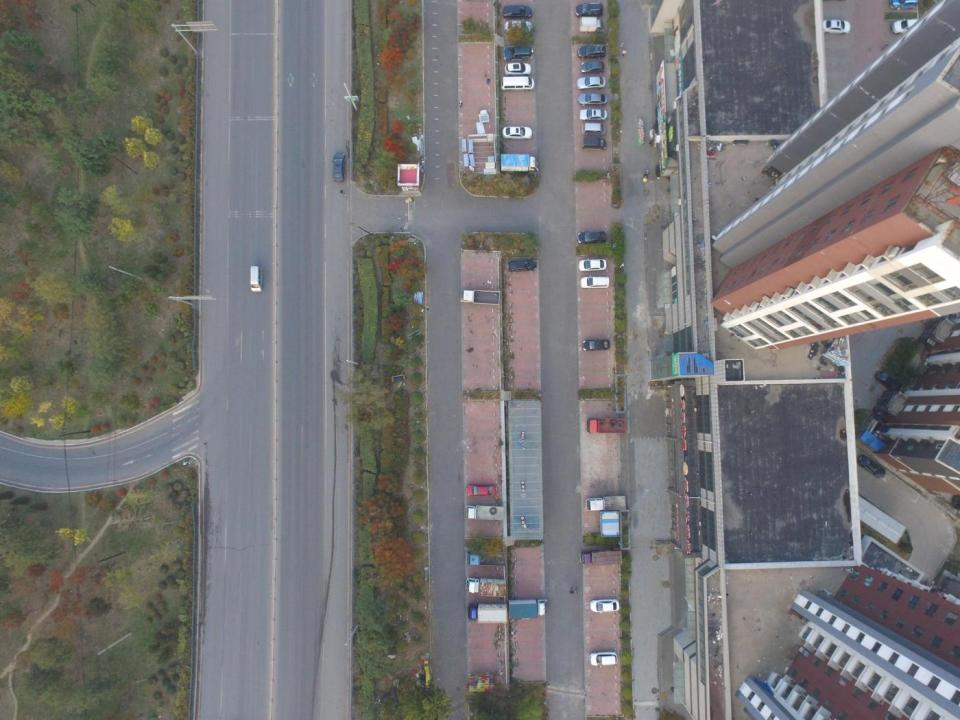car: (858, 454, 885, 479), (876, 370, 900, 391), (590, 598, 619, 614), (590, 650, 617, 667), (502, 4, 532, 19), (892, 18, 920, 34), (578, 92, 608, 106), (507, 258, 537, 272), (577, 76, 606, 90), (822, 20, 850, 34), (502, 126, 532, 139), (332, 153, 345, 182), (579, 108, 607, 121), (578, 231, 606, 244), (579, 258, 607, 271), (466, 484, 496, 496), (505, 20, 532, 33), (504, 63, 530, 76), (580, 61, 604, 75), (582, 340, 610, 351)
truck: (508, 599, 547, 620), (468, 604, 508, 624), (466, 577, 506, 597), (579, 549, 622, 565), (500, 154, 538, 172), (585, 495, 626, 511), (466, 551, 506, 567), (586, 418, 626, 434), (464, 505, 504, 520), (460, 289, 500, 304), (580, 17, 604, 34)
van: (501, 76, 534, 92), (504, 46, 534, 61), (578, 44, 606, 60), (574, 3, 604, 17), (580, 275, 609, 288), (582, 137, 606, 151), (250, 266, 263, 291), (582, 123, 606, 136), (890, 0, 918, 9)
